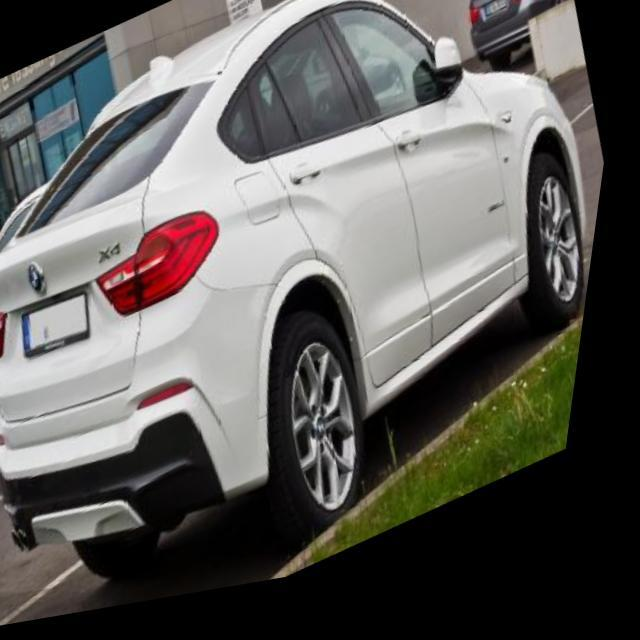license_plate: (20, 286, 110, 369), (485, 11, 513, 34)
